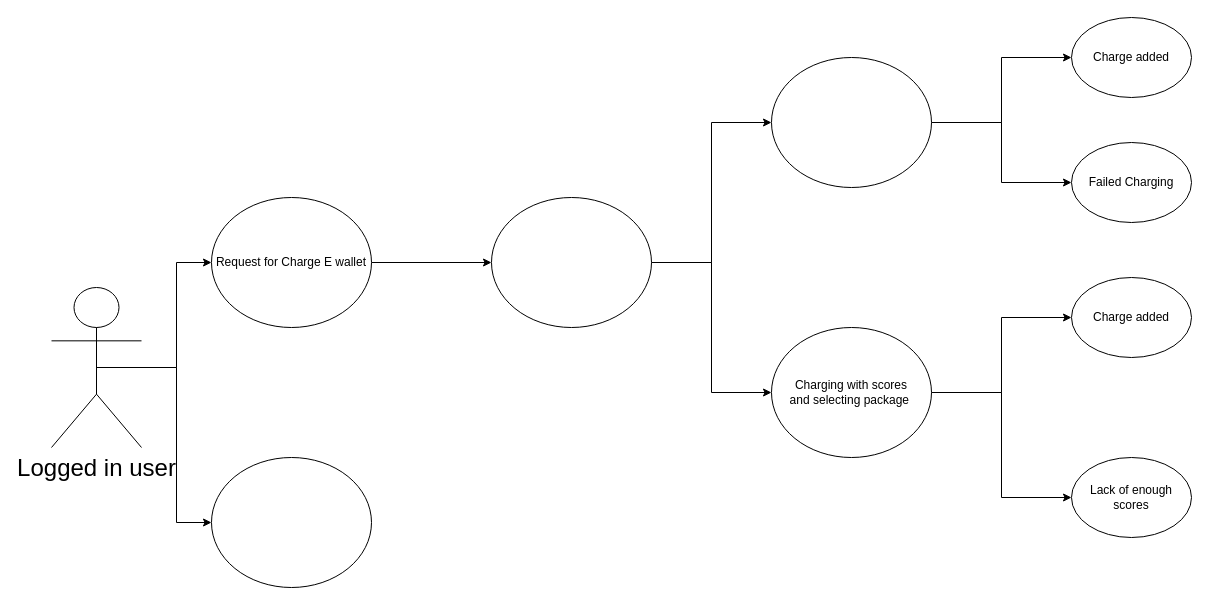
Some shapes in this 1209 by 605 pixel diagram are drawn without their labels. The box of each missing label's shape, as (x1, y1, x2, y2) in pixels:
Charging with credit card and selecting value of charging: (770, 56, 932, 188)
select type of charge: (490, 196, 652, 328)
View Transactions: (210, 456, 372, 588)
